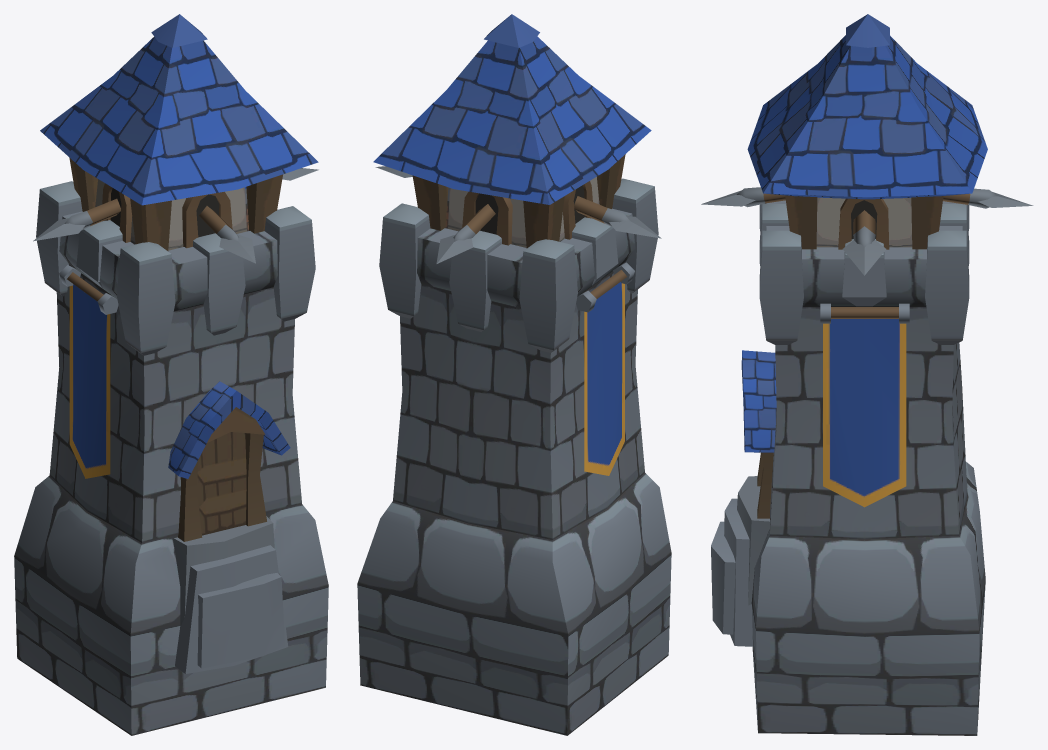
Rendered from TowerC.glb.
3 renders of one model, left to right at view 1: azimuth 30°, elevation 25°; view 2: azimuth 150°, elevation 25°; view 3: azimuth 270°, elevation 25°, orthographic. The views are drawn at different scales.
Visible parts, largest first — view 1: SM_Tower_C; view 2: SM_Tower_C; view 3: SM_Tower_C.
Boxes of the visible parts, bbox=[...] form: SM_Tower_C: bbox=[14, 14, 328, 735]; SM_Tower_C: bbox=[357, 14, 671, 735]; SM_Tower_C: bbox=[701, 14, 1033, 735].
Size of the model in its own units: 4.69 by 10.26 by 4.61.
1 material, 1 textured.
